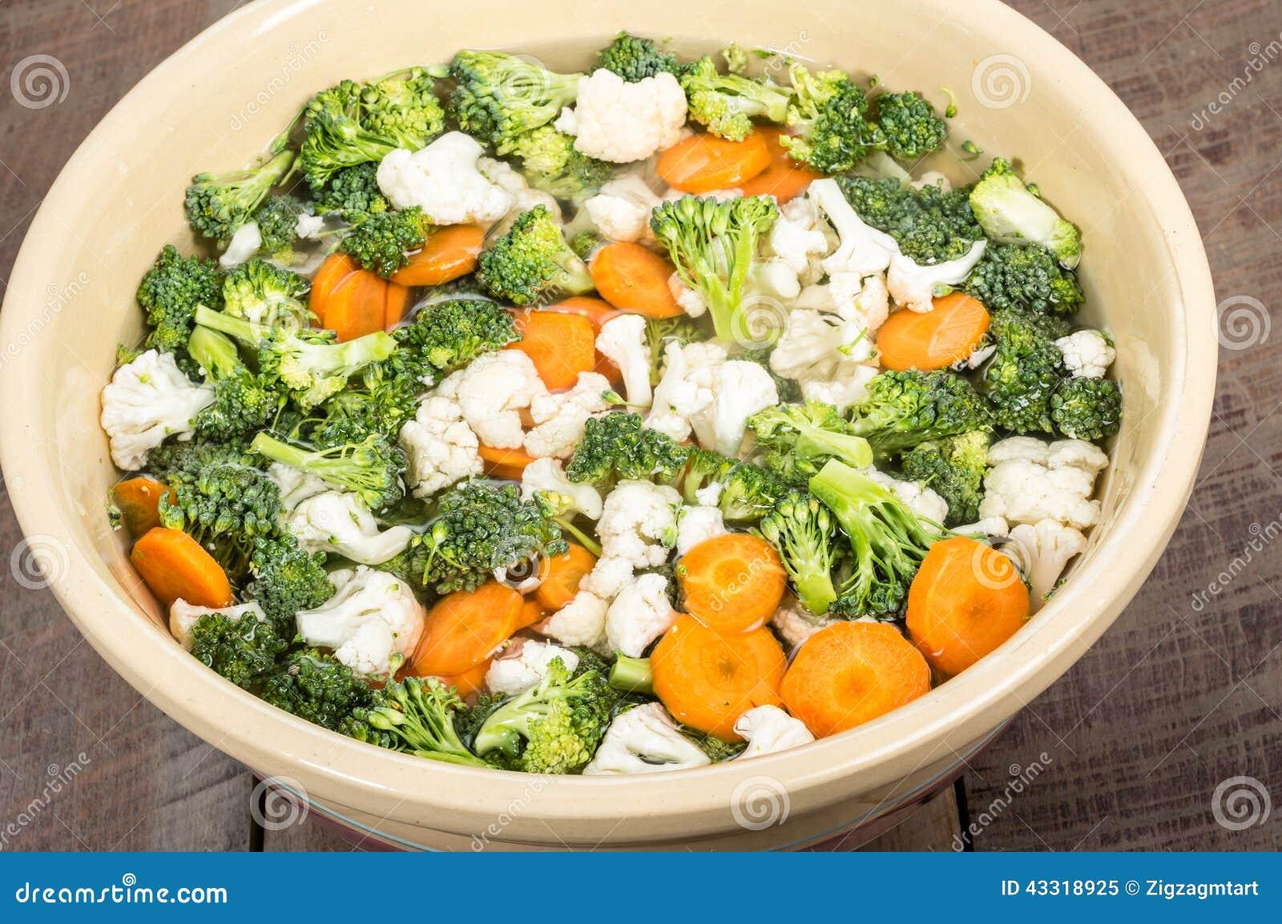broccoli: (646, 196, 779, 351)
carrot: (413, 581, 534, 677), (129, 522, 236, 606), (385, 222, 487, 287)
carrrot: (654, 562, 949, 719)
cauliflower: (364, 377, 633, 488)
